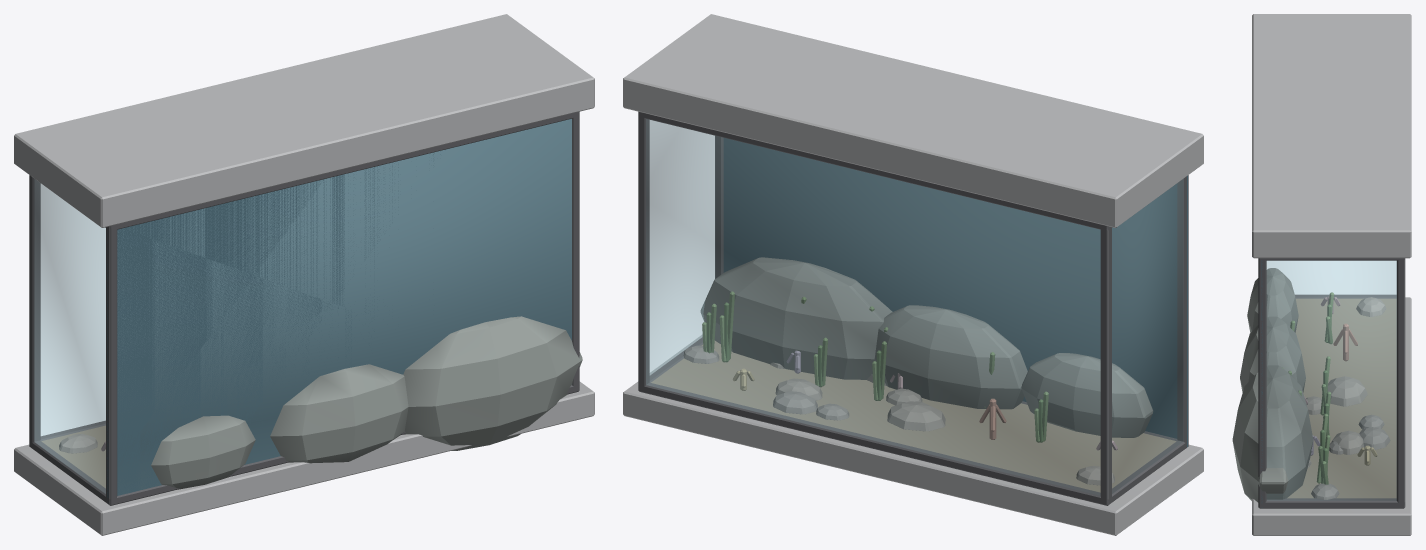
File: furn_aquarium_wall__stone.glb
The picture shows the model from 3 angles, left to right: view 1: azimuth 30°, elevation 25°; view 2: azimuth 150°, elevation 25°; view 3: azimuth 270°, elevation 25°; orthographic projection. The views are drawn at different scales.
Size of the model in its own units: 4.2 by 2.85 by 1.46.
